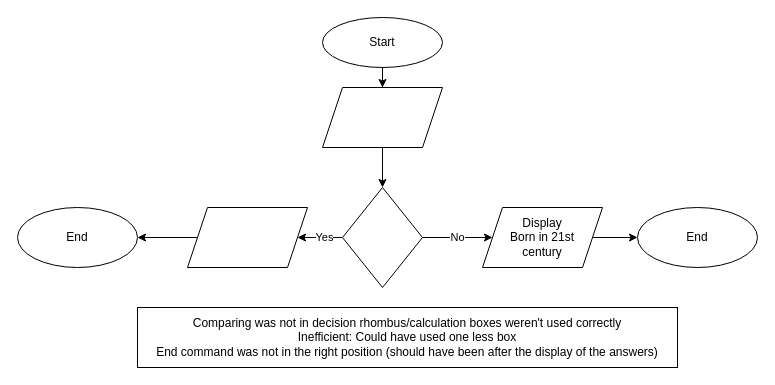
Some shapes in this 775 by 385 pixel diagram are drawn without their labels. Here are the shapes that lost their labels. From the top down, the centre of each, then its label:
At point (382, 117): "User enters year of birth".
At point (247, 237): "Display Born in 20th century".
At point (382, 237): "If year is before 2000".
